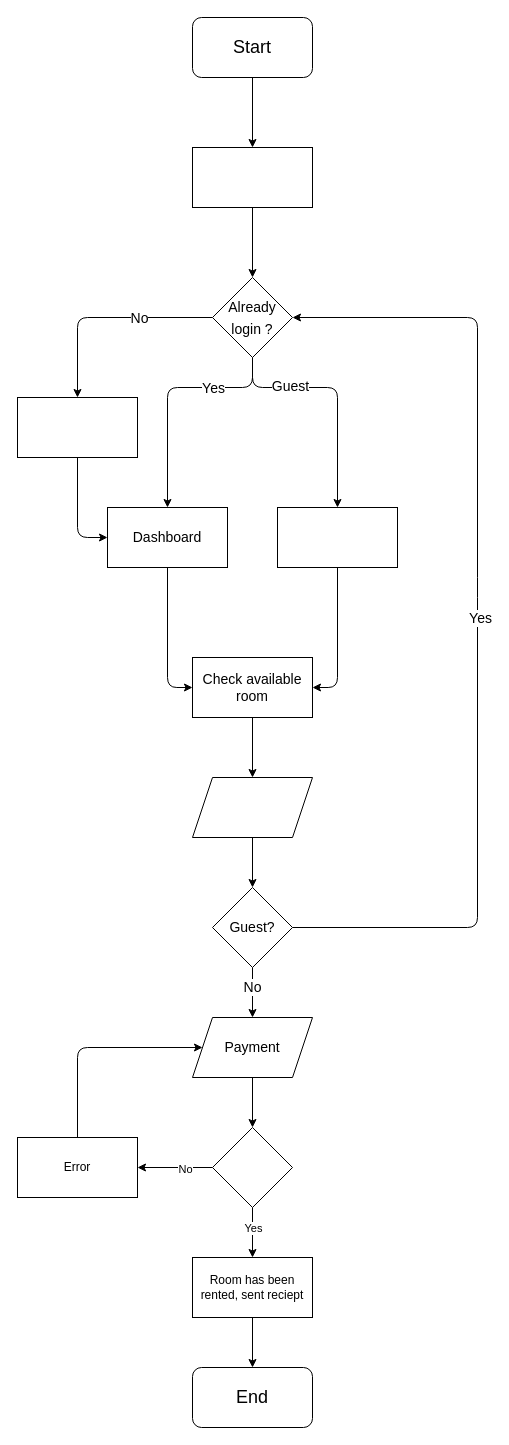
This 509x1445 diagram has some shape labels left out. The shapes that lost their labels are listed below. From the top down, each one's box as (x1, y1, x2, y2) in pixels, then its label:
(192, 146, 312, 208): Home Page
(16, 396, 138, 458): Login / Register Flowchart
(276, 506, 398, 568): View Catalog
(192, 776, 312, 838): Select Plan
(212, 1126, 292, 1208): Success?
